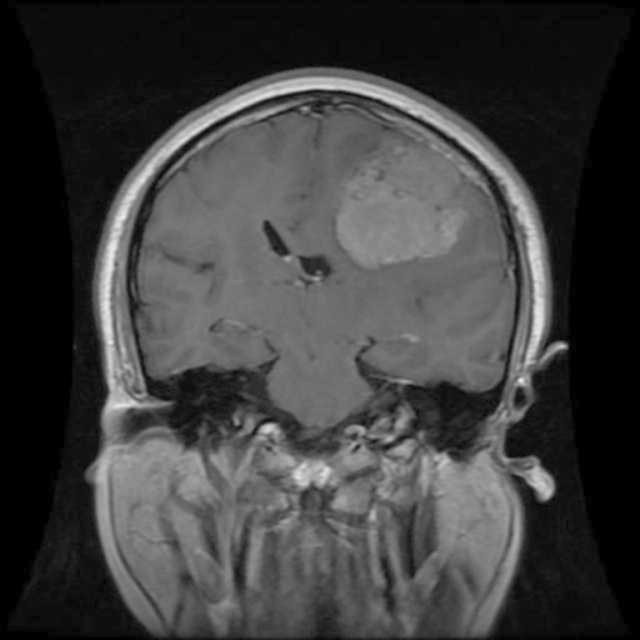meningioma tumor: (332, 120, 483, 265)
